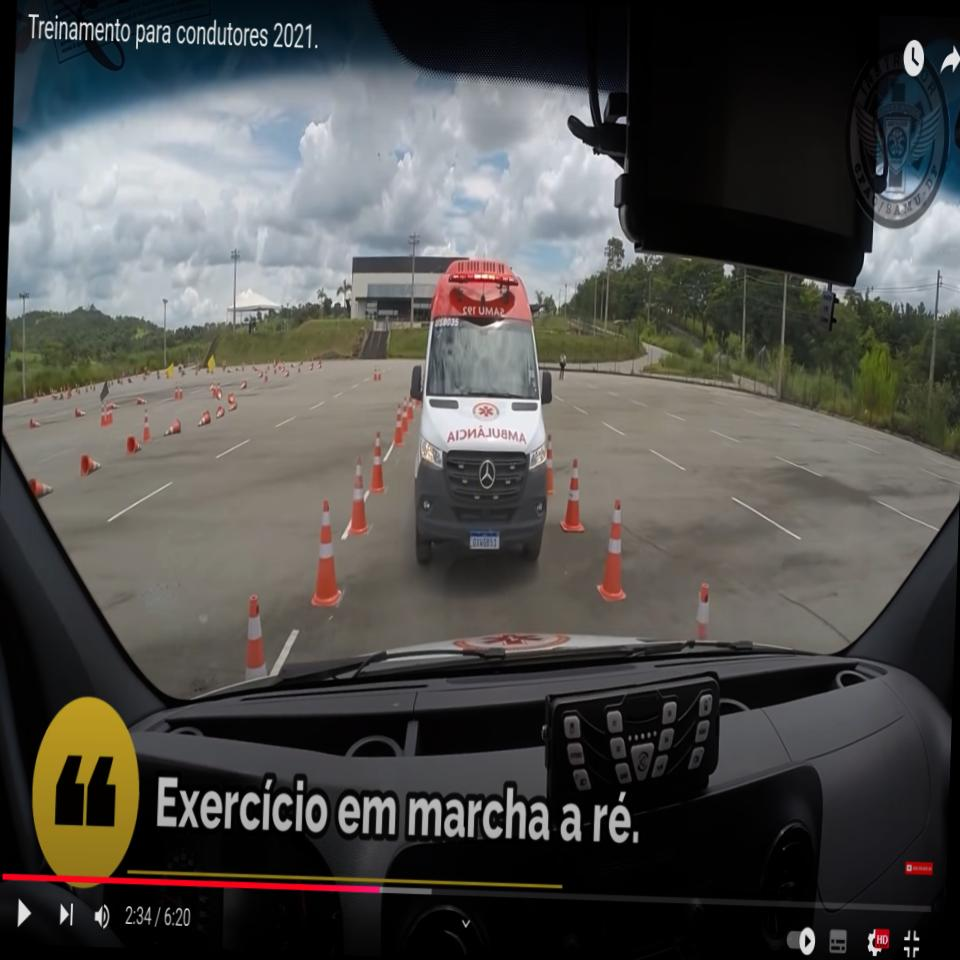bombeiro: (404, 255, 558, 569)
